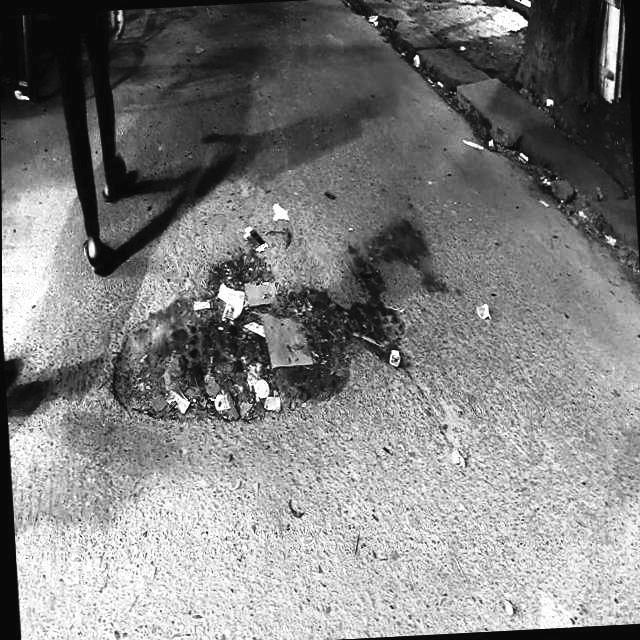Pothole: (113, 254, 323, 423)
